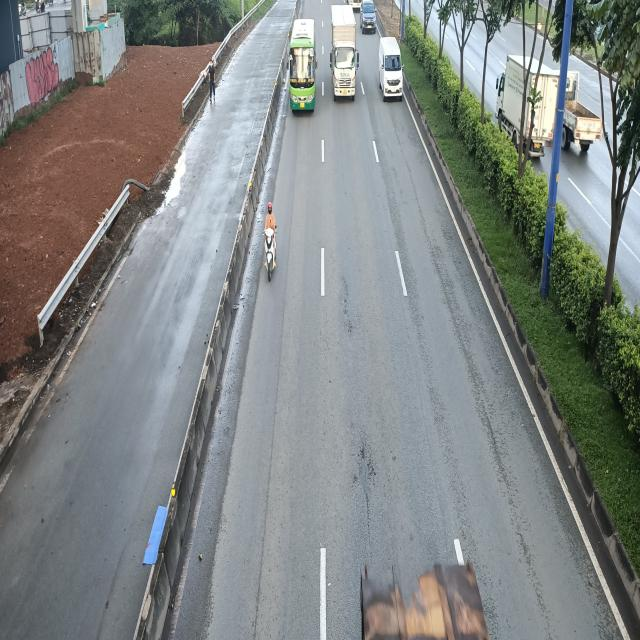car: (360, 2, 376, 36)
coach: (286, 17, 318, 113)
truck: (332, 5, 361, 101)
van: (378, 36, 404, 100)
